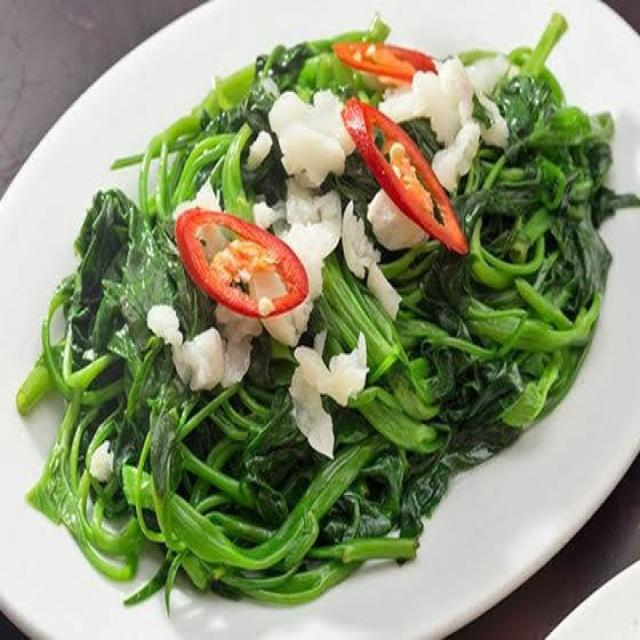rau muong: (16, 15, 639, 609)
